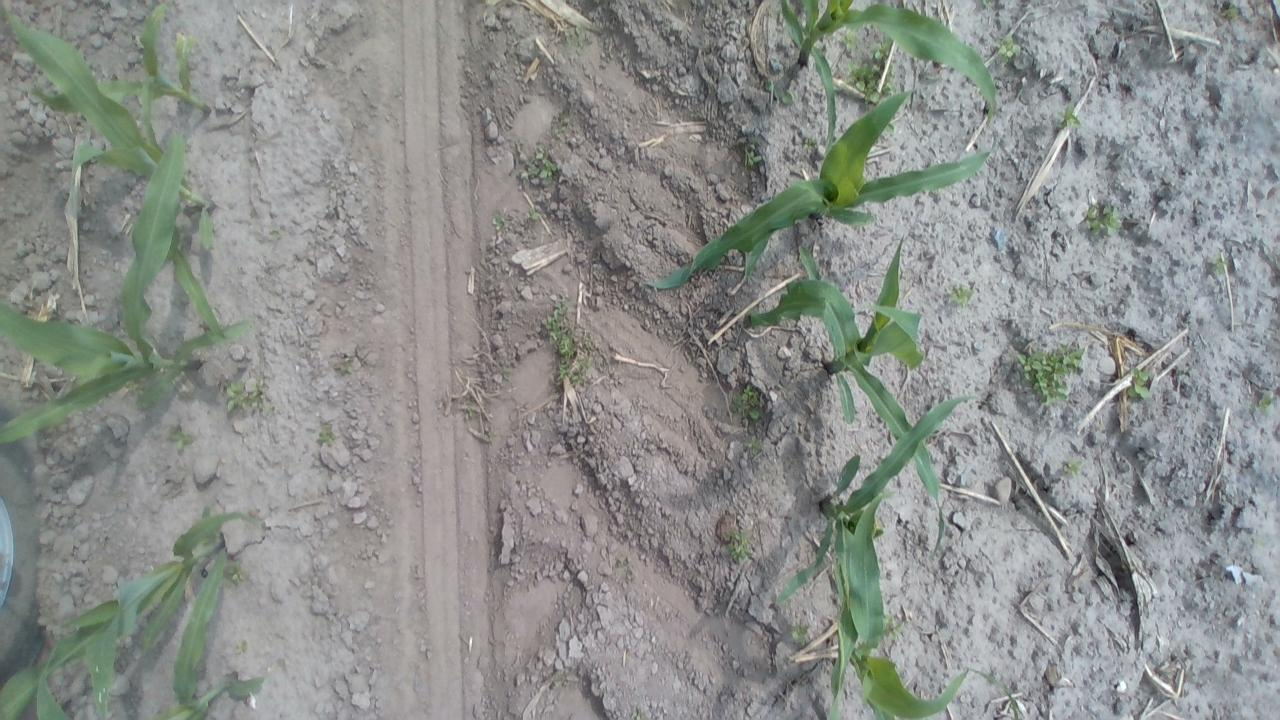Maize: (0, 129, 254, 450), (641, 82, 1007, 296), (740, 232, 951, 572), (771, 387, 982, 720), (0, 0, 232, 256), (0, 501, 259, 720), (766, 0, 998, 158), (26, 0, 221, 157), (807, 602, 1025, 720), (31, 664, 269, 720)
Weeds: (538, 296, 596, 390), (1014, 338, 1086, 411), (216, 370, 276, 417), (842, 61, 894, 105), (520, 138, 562, 184), (1080, 202, 1122, 241), (730, 382, 769, 424), (1124, 365, 1156, 402), (994, 35, 1027, 69), (942, 279, 978, 310), (762, 74, 794, 108), (738, 133, 768, 169), (561, 18, 592, 52), (728, 531, 756, 566), (1056, 100, 1084, 134), (1059, 454, 1089, 483), (167, 423, 195, 454), (1246, 383, 1272, 415), (786, 623, 816, 649), (223, 561, 250, 589), (880, 614, 904, 644), (331, 356, 362, 377), (1206, 248, 1228, 276), (742, 432, 766, 457), (869, 36, 893, 60), (314, 422, 336, 447), (488, 207, 512, 228), (459, 395, 478, 420), (545, 666, 564, 690), (795, 135, 819, 154), (840, 29, 860, 50), (1223, 0, 1240, 23), (626, 706, 652, 720), (526, 204, 544, 224), (234, 638, 250, 656), (483, 424, 498, 442), (272, 228, 284, 239)
